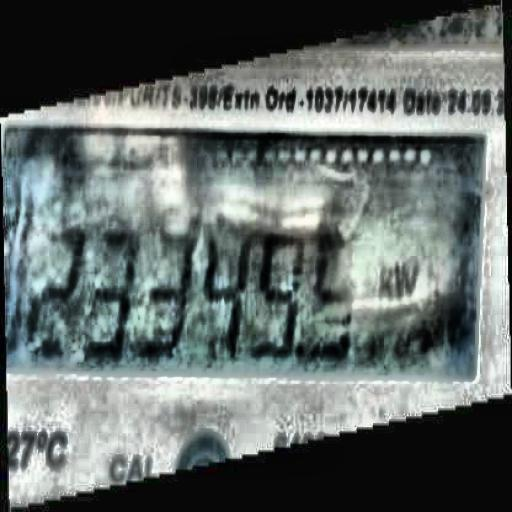DISPLAY_REGION: (0, 114, 498, 393)
SERIAL_REGION: (20, 218, 415, 373)
